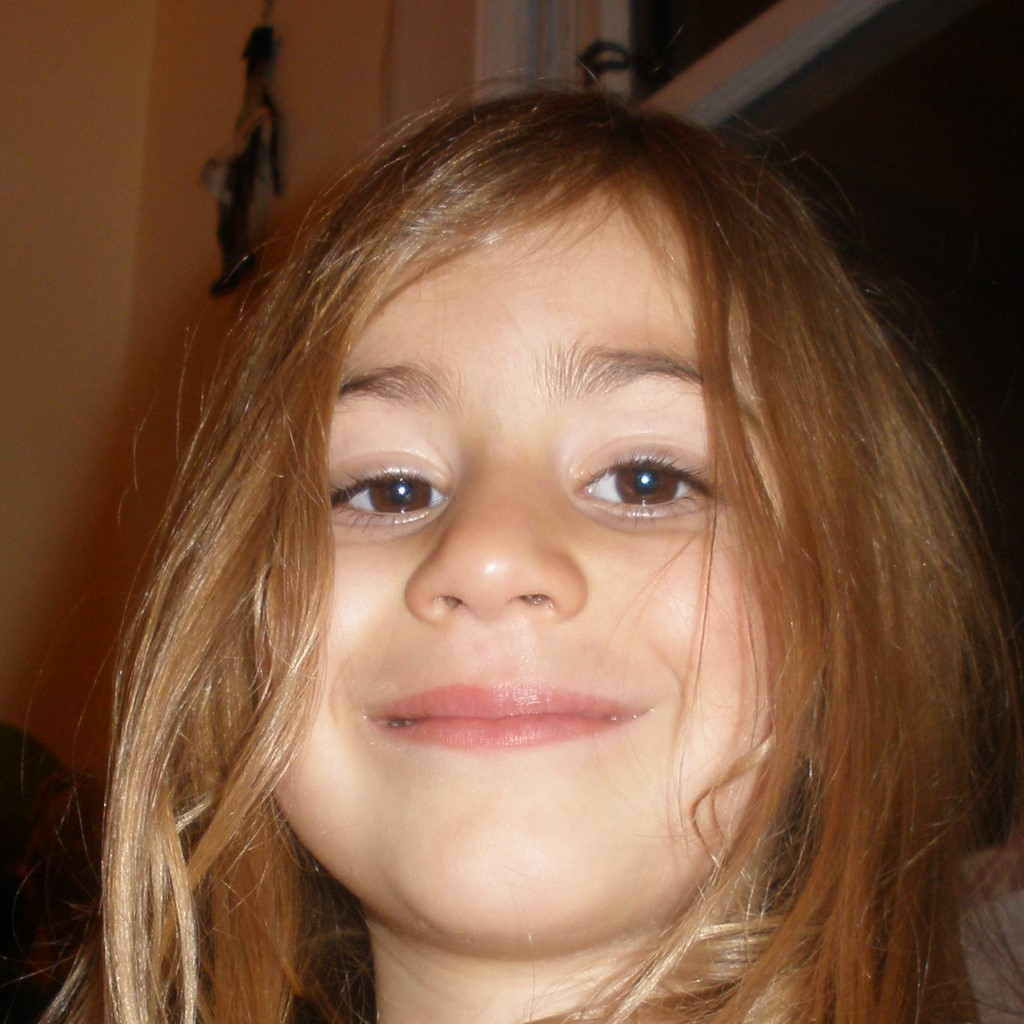sin_mascara: (265, 186, 808, 934)
